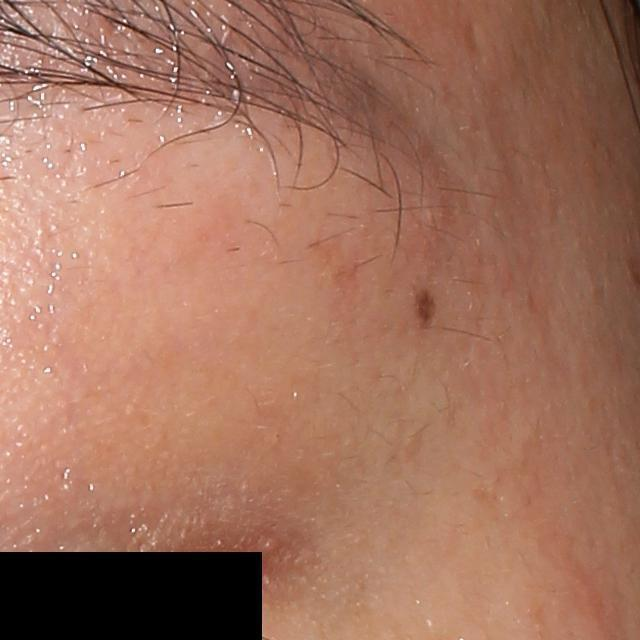nevus: (414, 287, 439, 331)
